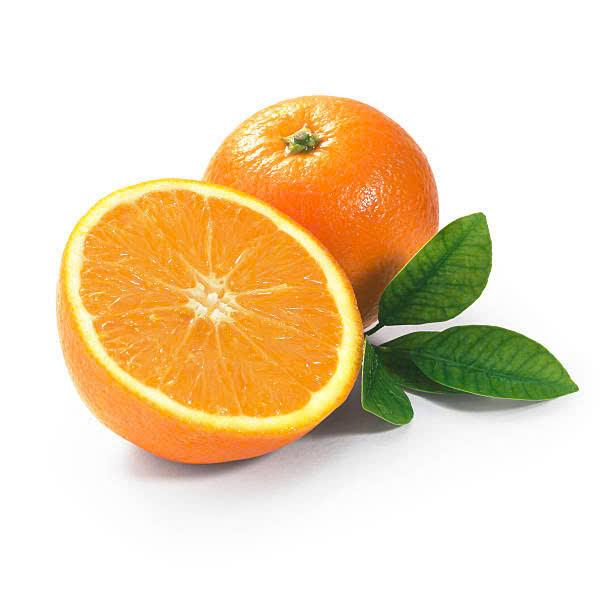orange: (49, 159, 367, 496), (146, 66, 468, 266)
